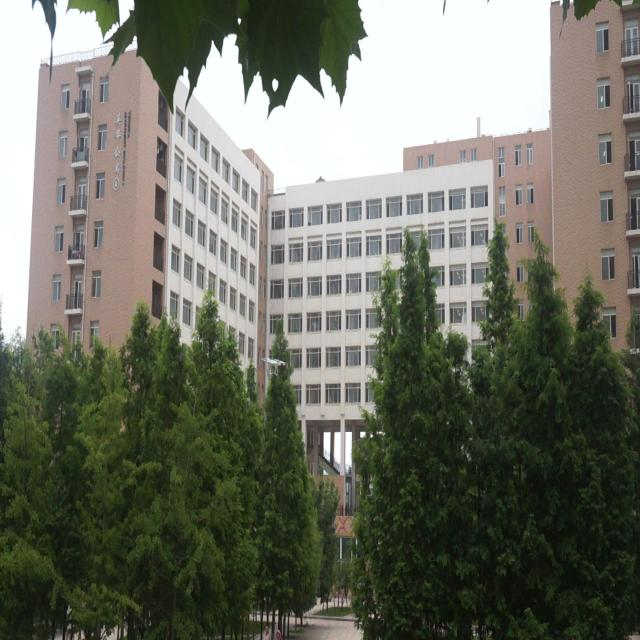drone: (258, 352, 290, 379)
